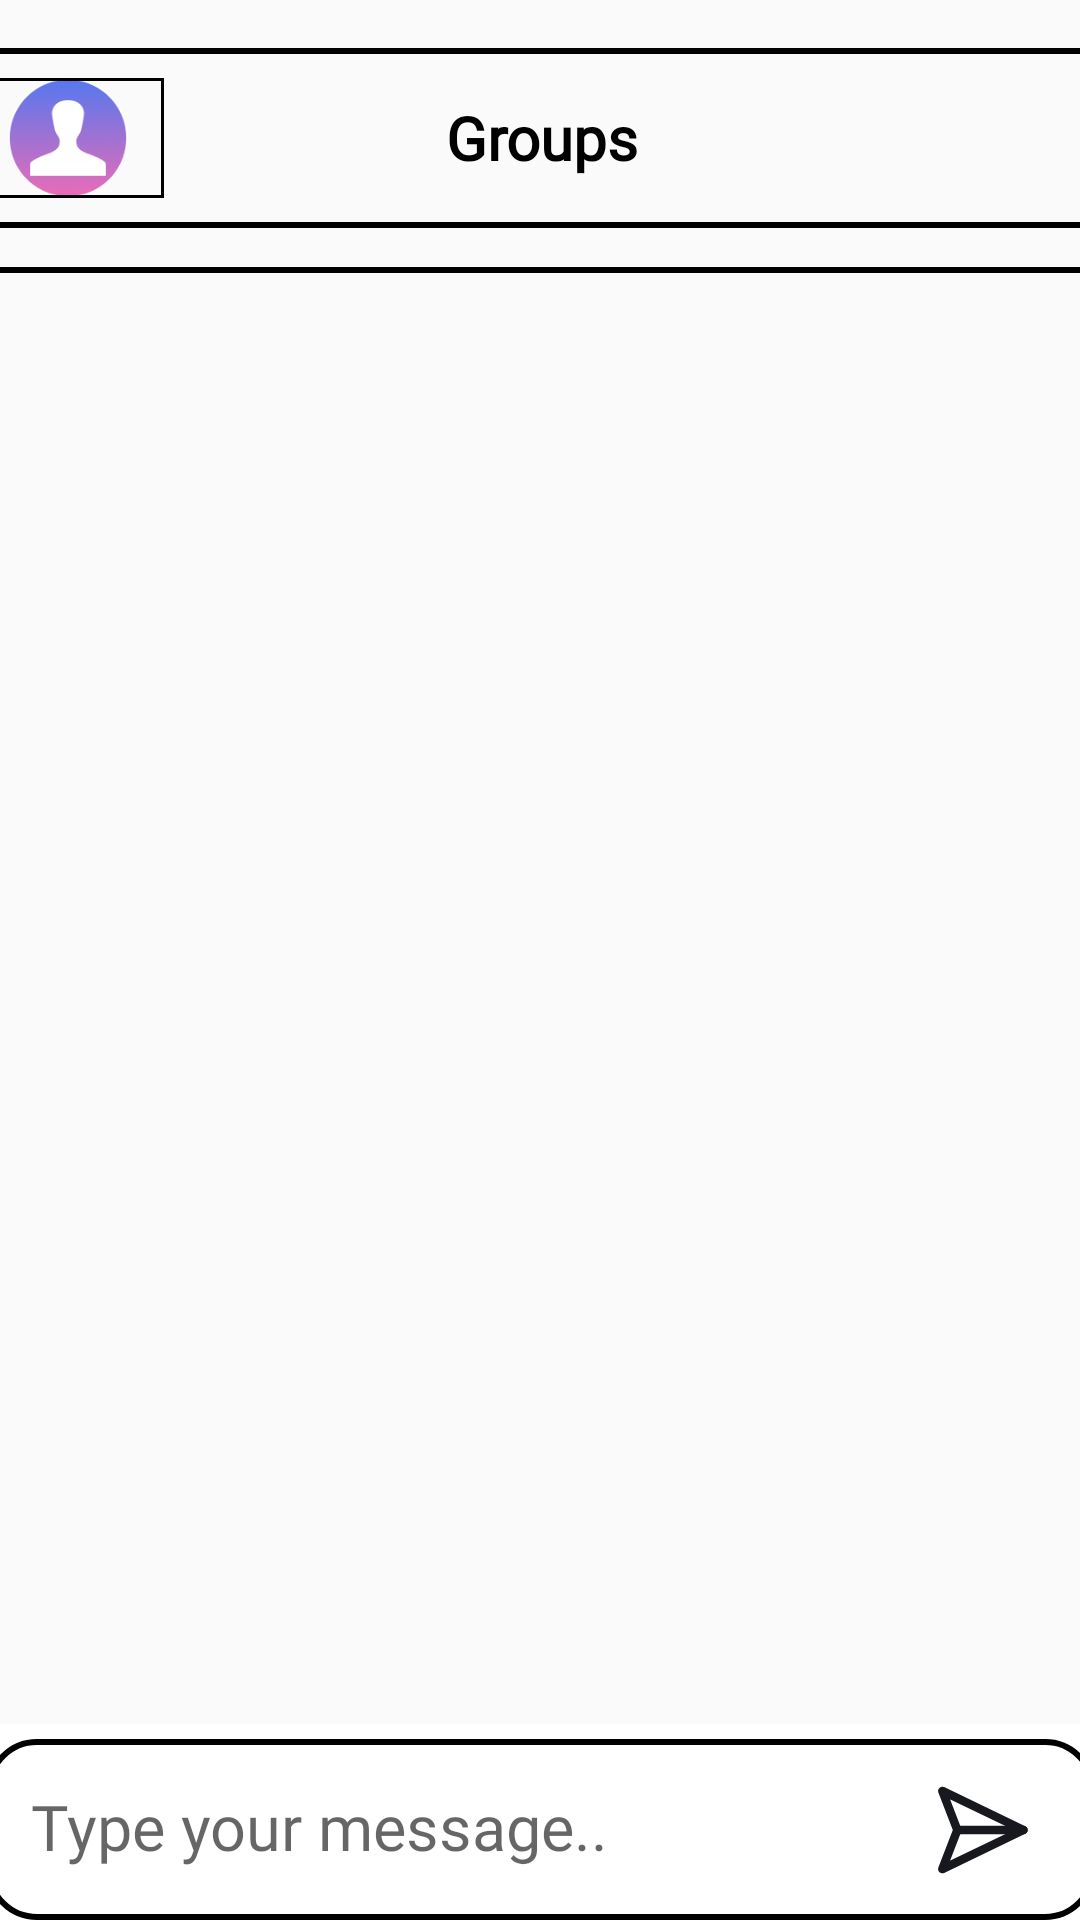

Named icons in this screenshot (1080*1920) and their centers, (x,y):
sendbutton: (983,1830)
